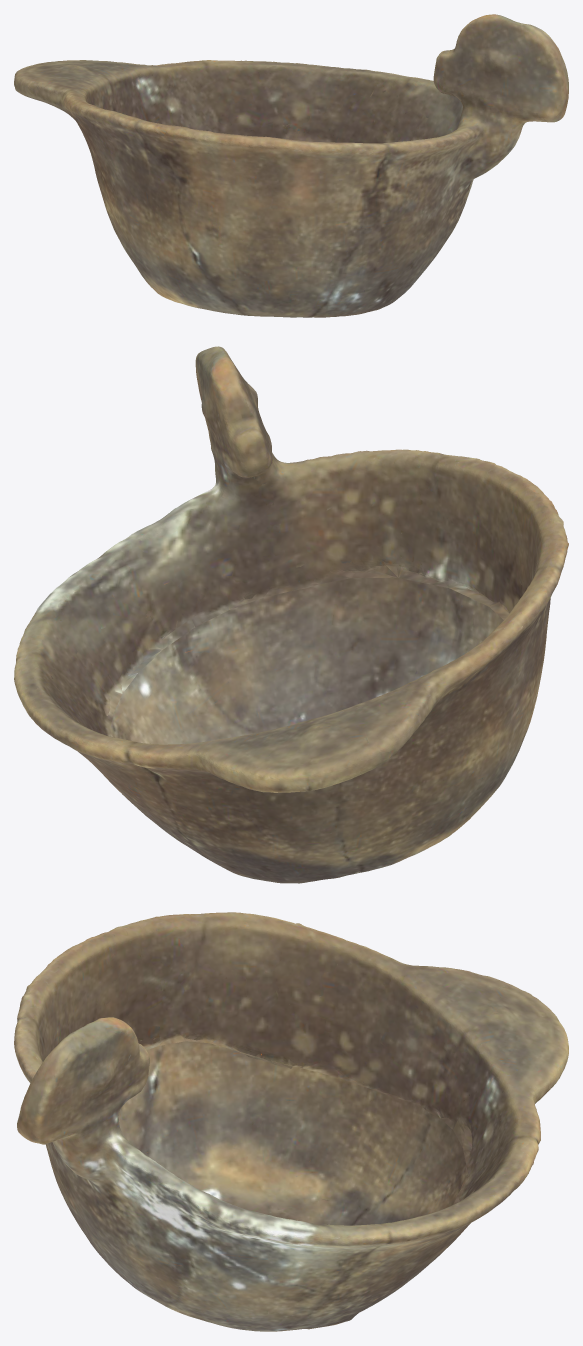
File: Ark_HM_706_HI.glb
3 views of the same model, one above another, from view 1: azimuth 30°, elevation 25°; view 2: azimuth 150°, elevation 25°; view 3: azimuth 270°, elevation 25° (orthographic). The views are drawn at different scales.
Bounding box in the file's own units: 0.4749 × 0.3554 × 0.4996.
Materials: 1 (1 with a texture image).
